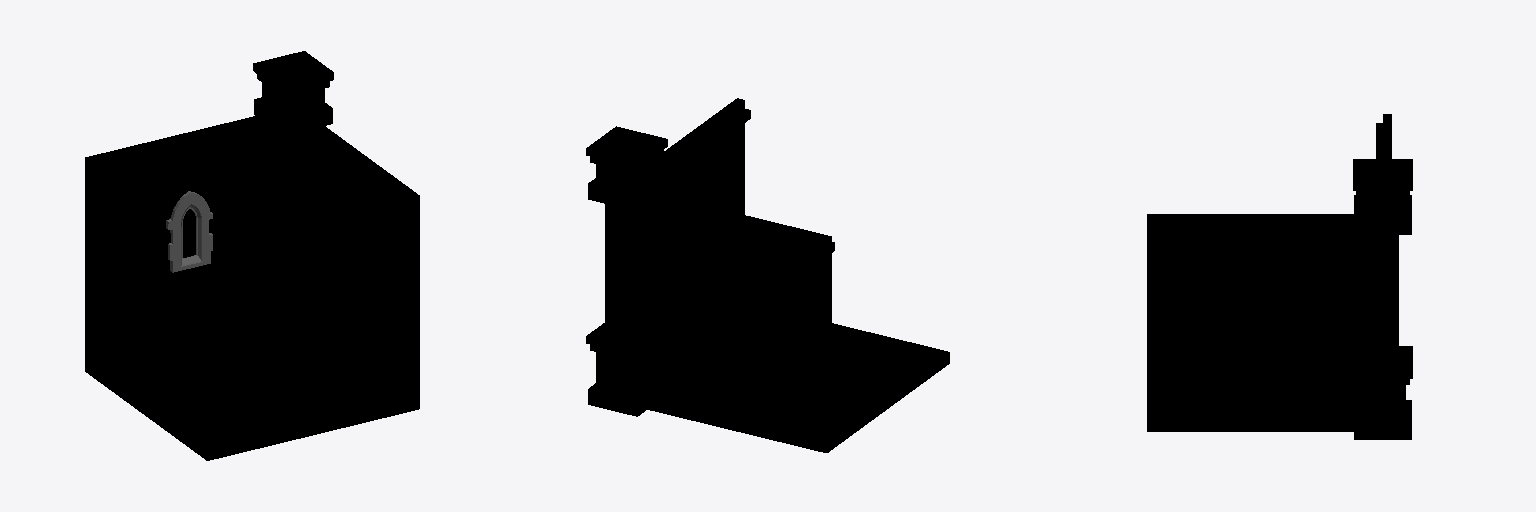
The picture shows the model from 3 angles: view 1: azimuth 30°, elevation 25°; view 2: azimuth 150°, elevation 25°; view 3: azimuth 270°, elevation 25°; orthographic projection.
Visible parts, largest first — view 1: object_9, object_4, object_6, object_5, object_1, object_8, object_18, Plane.007, object_2, object_7, object_13, object_3 (+4 smaller); view 2: object_9, object_4, object_5, object_18, object_13, object_16, object_1, object_10, object_3, object_11, object_17, object_15 (+1 smaller); view 3: object_4, object_18, object_13, object_16, object_10, object_17, object_15, object_11.
Part boxes in pixels (left/top/right/bottom): object_9: left=85, top=114, right=279, bottom=373; object_4: left=302, top=120, right=419, bottom=410; object_6: left=89, top=328, right=411, bottom=460; object_5: left=94, top=356, right=257, bottom=460; object_1: left=230, top=382, right=397, bottom=448; object_8: left=89, top=314, right=276, bottom=368; object_18: left=280, top=133, right=301, bottom=264; Plane.007: left=166, top=191, right=212, bottom=272; object_2: left=294, top=318, right=411, bottom=405; object_7: left=85, top=126, right=280, bottom=179; object_13: left=253, top=51, right=333, bottom=92; object_3: left=296, top=130, right=412, bottom=215; object_9: left=636, top=193, right=831, bottom=452; object_4: left=659, top=98, right=744, bottom=214; object_5: left=832, top=340, right=949, bottom=446; object_18: left=605, top=204, right=635, bottom=339; object_13: left=586, top=126, right=667, bottom=167; object_16: left=596, top=352, right=641, bottom=397; object_1: left=832, top=323, right=898, bottom=362; object_10: left=588, top=173, right=665, bottom=211; object_3: left=659, top=109, right=750, bottom=179; object_11: left=596, top=158, right=658, bottom=191; object_17: left=588, top=383, right=646, bottom=416; object_15: left=586, top=323, right=647, bottom=355; object_4: left=1147, top=214, right=1366, bottom=431; object_18: left=1367, top=235, right=1398, bottom=365; object_13: left=1353, top=159, right=1412, bottom=190; object_16: left=1360, top=385, right=1405, bottom=421; object_10: left=1354, top=195, right=1411, bottom=234; object_17: left=1354, top=400, right=1411, bottom=439; object_15: left=1353, top=346, right=1412, bottom=378; object_11: left=1360, top=197, right=1405, bottom=215.
Size of the model in its own units: 11.27 by 12.01 by 11.28.